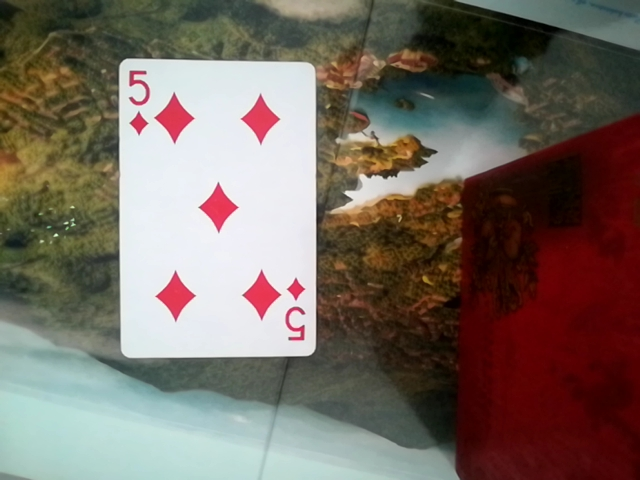fk 5: (111, 49, 323, 362)
